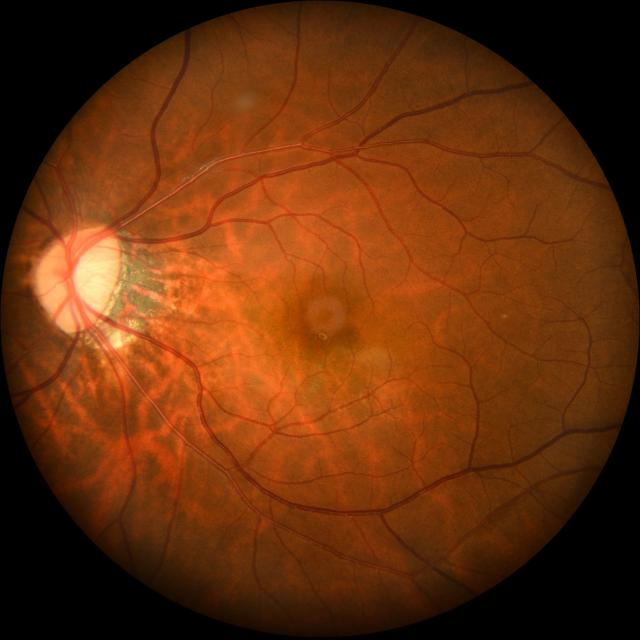OC: (72, 244, 113, 308)
OD: (37, 227, 122, 329)
